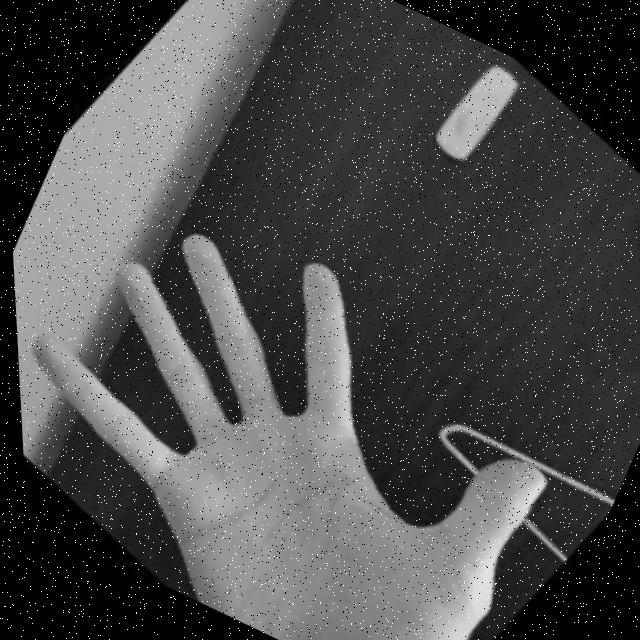no-gloves: (6, 153, 623, 640)
